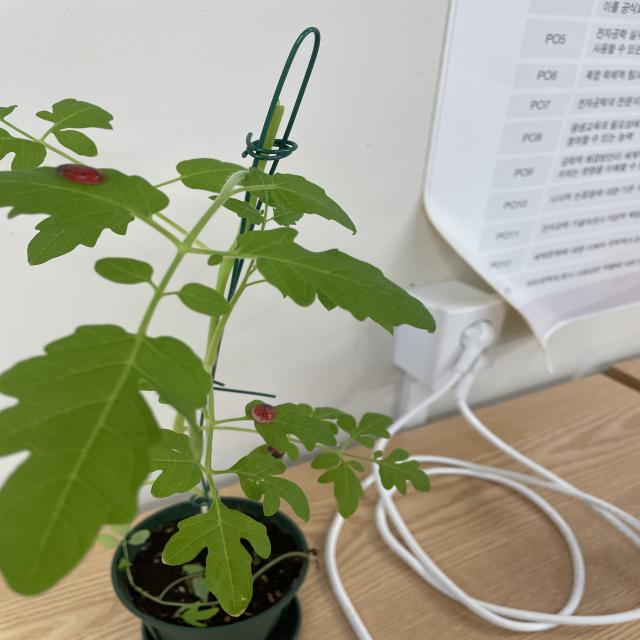bug: (43, 152, 117, 198), (248, 440, 295, 475), (233, 398, 293, 421)
